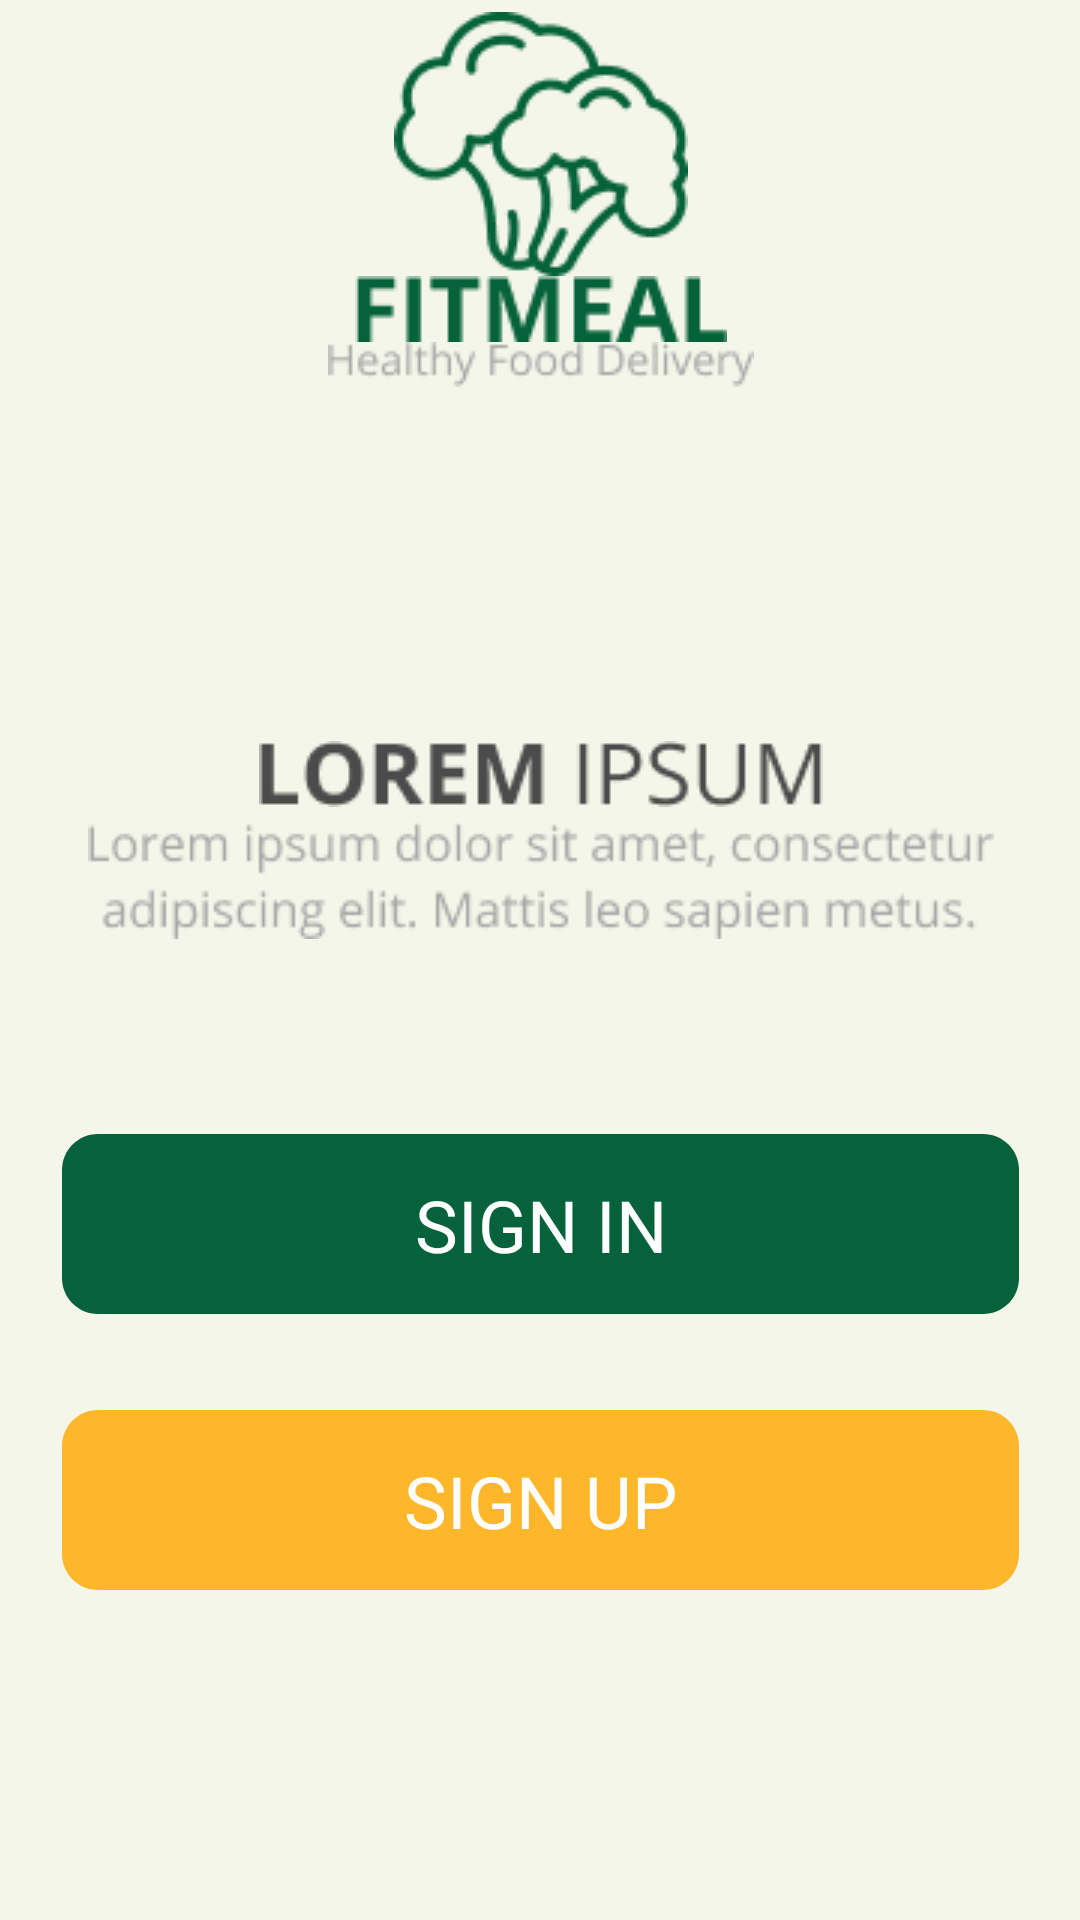

Icons on this 1080*1920 Android screen, each with its box as (x1, y1, x2, y2):
broccoli: (394, 12, 688, 276)
